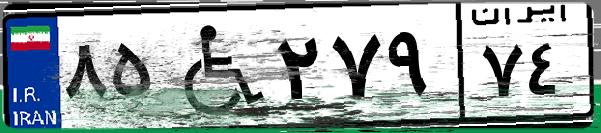2: (270, 28, 330, 110)
4: (525, 38, 570, 115)
5: (110, 28, 158, 98)
7: (330, 28, 385, 110), (475, 38, 525, 113)
8: (57, 26, 110, 100)
9: (385, 28, 445, 110)
ژ (معلولین و جانبازان): (158, 12, 270, 120)
